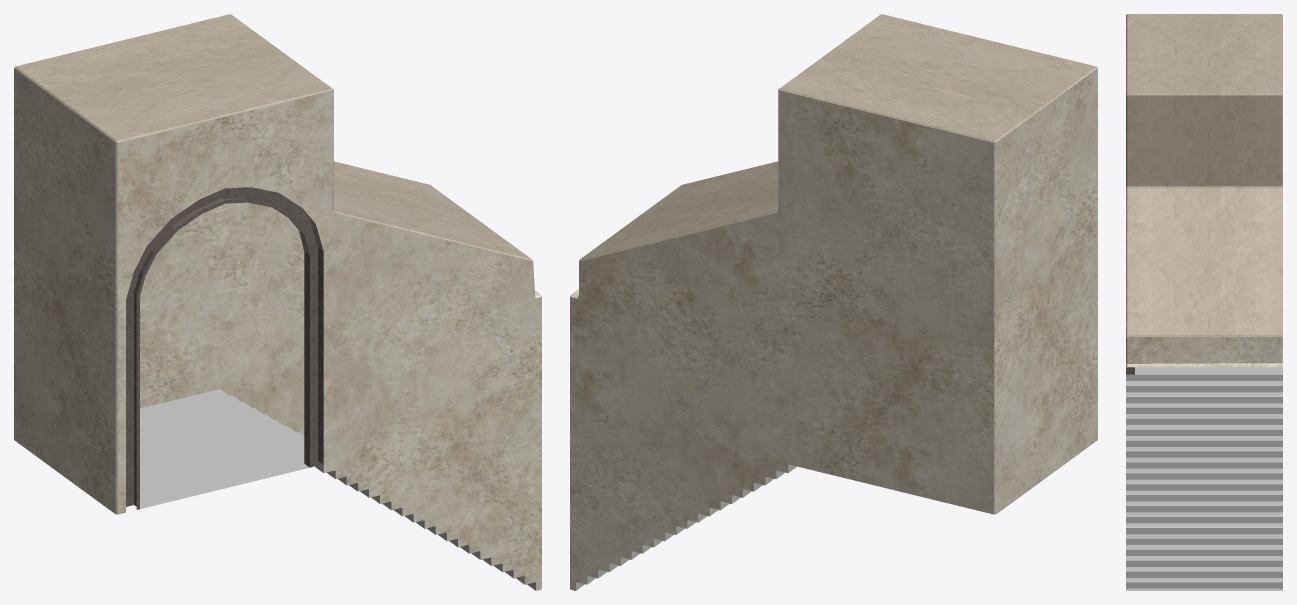
Rendered from thm_tato_house_m_s01_fp1_r5_stair2_mesh_r5.fbx.
3 views of the same model, side by side, from view 1: azimuth 30°, elevation 25°; view 2: azimuth 150°, elevation 25°; view 3: azimuth 270°, elevation 25° (orthographic). The views are drawn at different scales.
Parts seen in each view (by area): view 1: mesh_node; view 2: mesh_node; view 3: mesh_node.
Boxes of the visible parts, x1=… form: mesh_node: x1=14, y1=14, x2=541, y2=590; mesh_node: x1=570, y1=14, x2=1097, y2=590; mesh_node: x1=1126, y1=14, x2=1282, y2=590.
Bounding box in the file's own units: 6.36 × 7.88 × 2.67.
